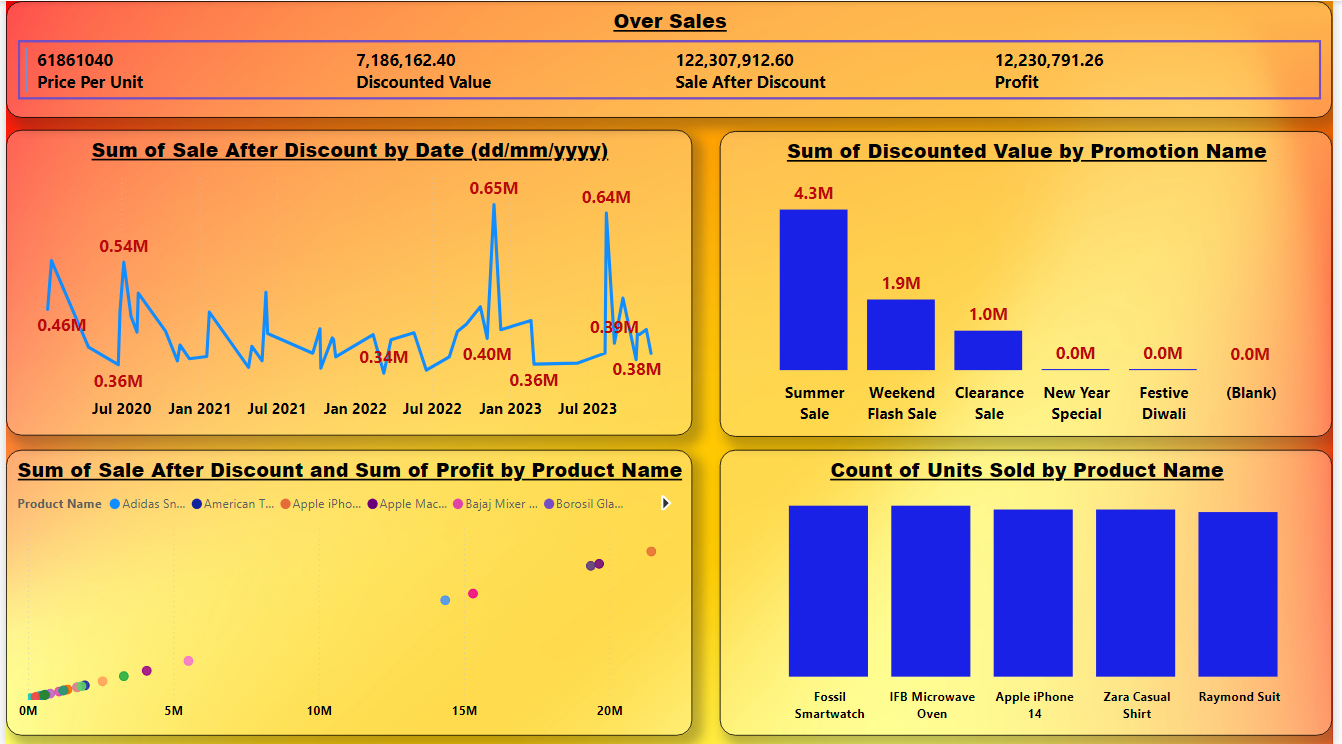

The dashboard page shown, as its layout file describes it:
{"tool":"powerbi","page":{"name":"Page 2","canvas":[1280,720],"ordinal":1},"visuals":[{"type":"scatterChart","fields":{"X":["Sum(Sales.Sale After Discount)"],"Y":["Sum(Sales.Profit)"],"Series":["Sales.Product Name"]},"box":[0,433.1,662.3,276.3],"z":0},{"type":"lineChart","fields":{"Category":["Sales.Date (dd/mm/yyyy)"],"Y":["Sum(Sales.Sale After Discount)"]},"box":[0,124.3,662.3,295.6],"z":1000},{"type":"multiRowCard","title":"Over Sales","fields":{"Values":["Sum(Sales.Price Per Unit)","Sum(Sales.Discounted Value)","Sum(Sales.Sale After Discount)","Sum(Sales.Profit)"]},"box":[0,0,1280.3,112.5],"z":2000},{"type":"columnChart","fields":{"Category":["Promotion.Promotion Name"],"Y":["Sum(Sales.Discounted Value)"]},"box":[688.9,125.5,591.2,295.6],"z":3000},{"type":"columnChart","fields":{"Category":["Product.Product Name"],"Y":["CountNonNull(Sales.Units Sold)"]},"box":[688.9,433.6,591.4,275.8],"z":4000}]}

Visuals, with their boxes in screenshot pixels (x1, y1, x2, y2), scaled from the page's 1280x720 canvas onto the 1342x744 screenshot:
scatterChart - Sum(Sales.Sale After Discount) x Sum(Sales.Profit): bbox=(0, 448, 694, 733)
lineChart - Sales.Date (dd/mm/yyyy) x Sum(Sales.Sale After Discount): bbox=(0, 128, 694, 434)
"Over Sales" multiRowCard: bbox=(0, 0, 1341, 116)
columnChart - Promotion.Promotion Name x Sum(Sales.Discounted Value): bbox=(722, 130, 1341, 435)
columnChart - Product.Product Name x CountNonNull(Sales.Units Sold): bbox=(722, 448, 1341, 733)
